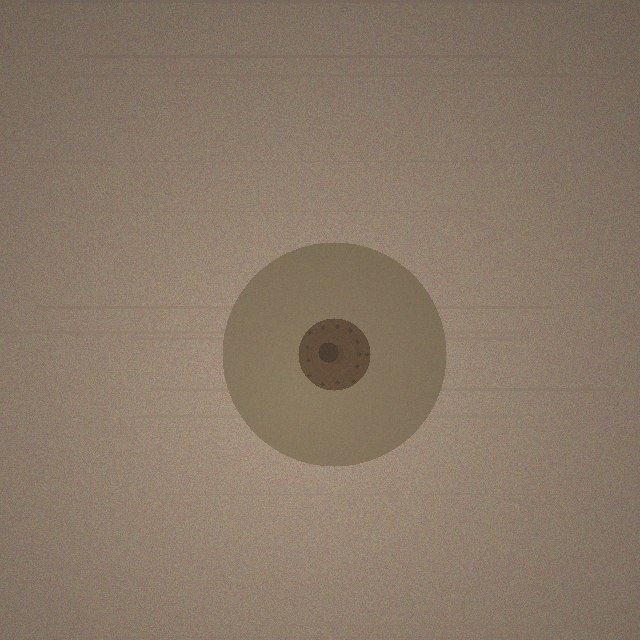cold_weld: (222, 242, 446, 466)
